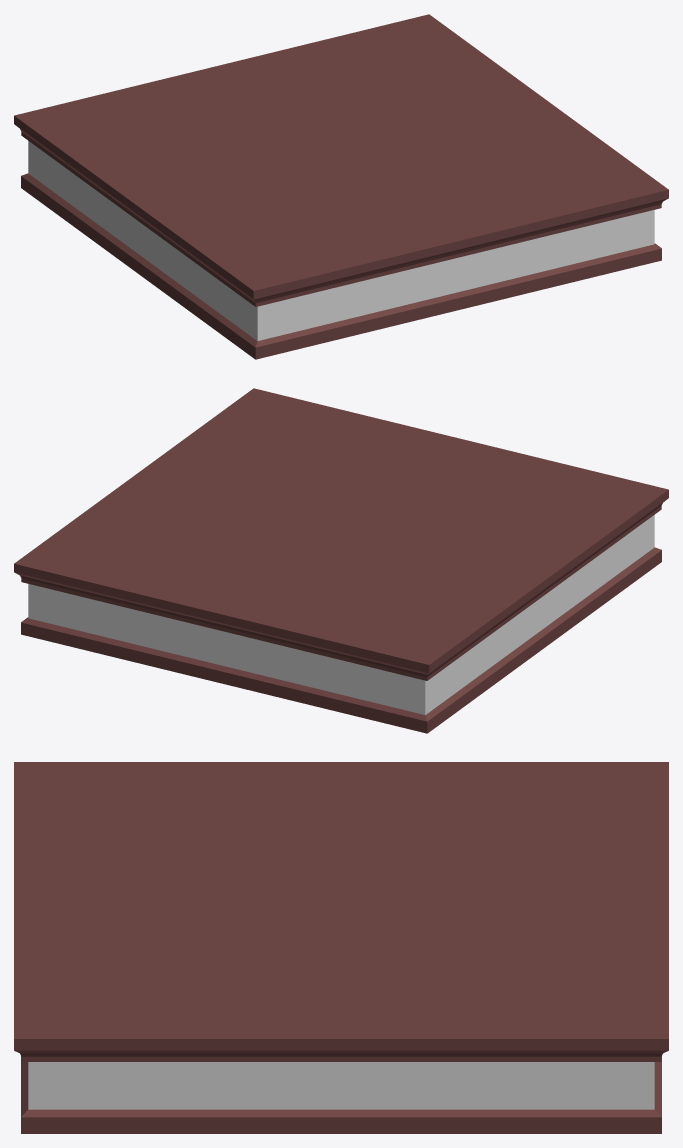
The picture shows the model from 3 angles, top to bottom: view 1: azimuth 30°, elevation 25°; view 2: azimuth 150°, elevation 25°; view 3: azimuth 270°, elevation 25°; orthographic projection. The views are drawn at different scales.
Parts seen in each view (by area): view 1: floor9.4; view 2: floor9.4; view 3: floor9.4.
Part boxes in pixels (left/top/right/bottom): floor9.4: left=14, top=14, right=668, bottom=359; floor9.4: left=14, top=388, right=668, bottom=733; floor9.4: left=14, top=762, right=668, bottom=1133.
Bounding box in the file's own units: 209 × 34.43 × 209.
